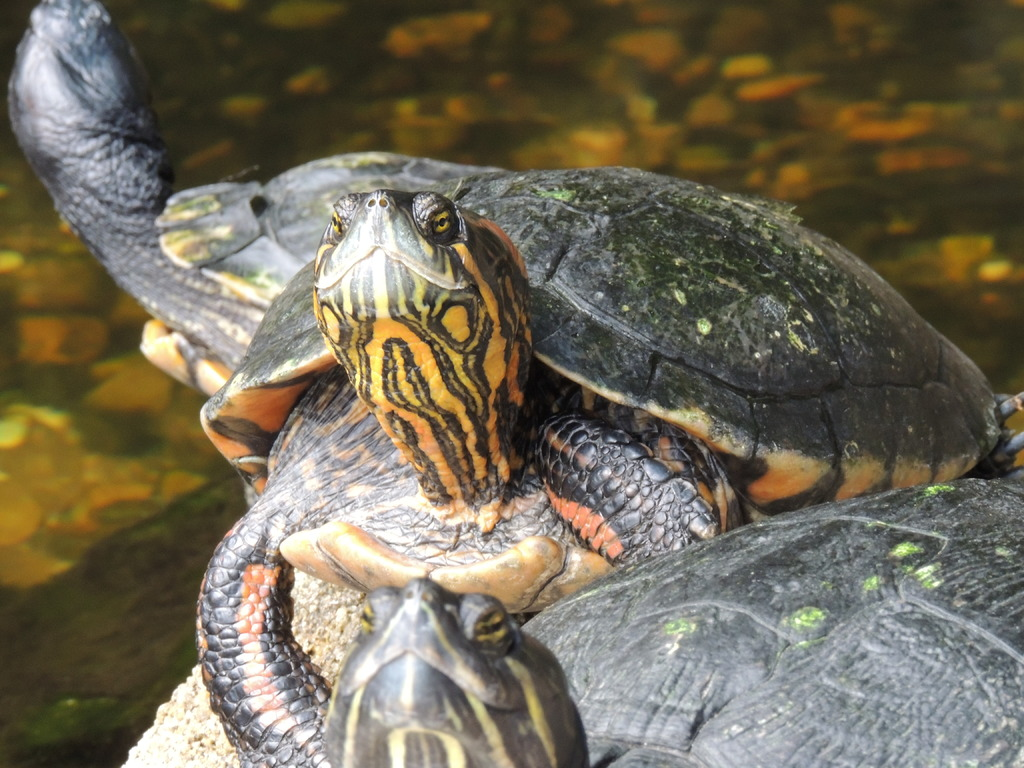Sea turtles: (0, 0, 1022, 767)
